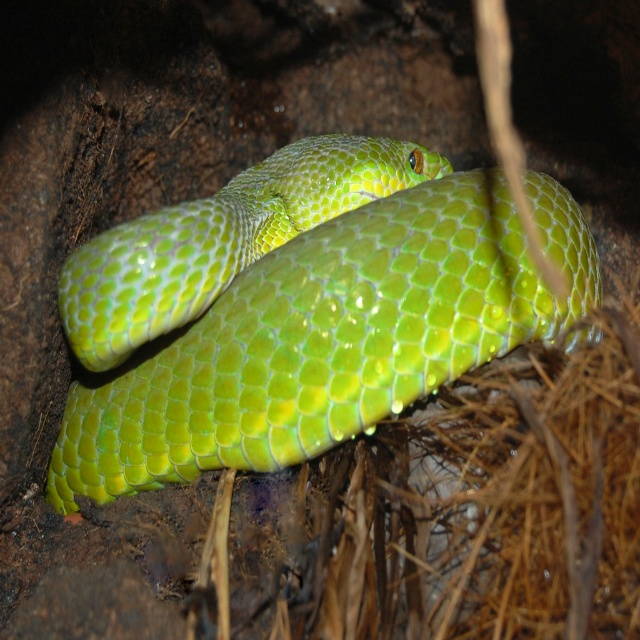Snake: (43, 133, 604, 519)
